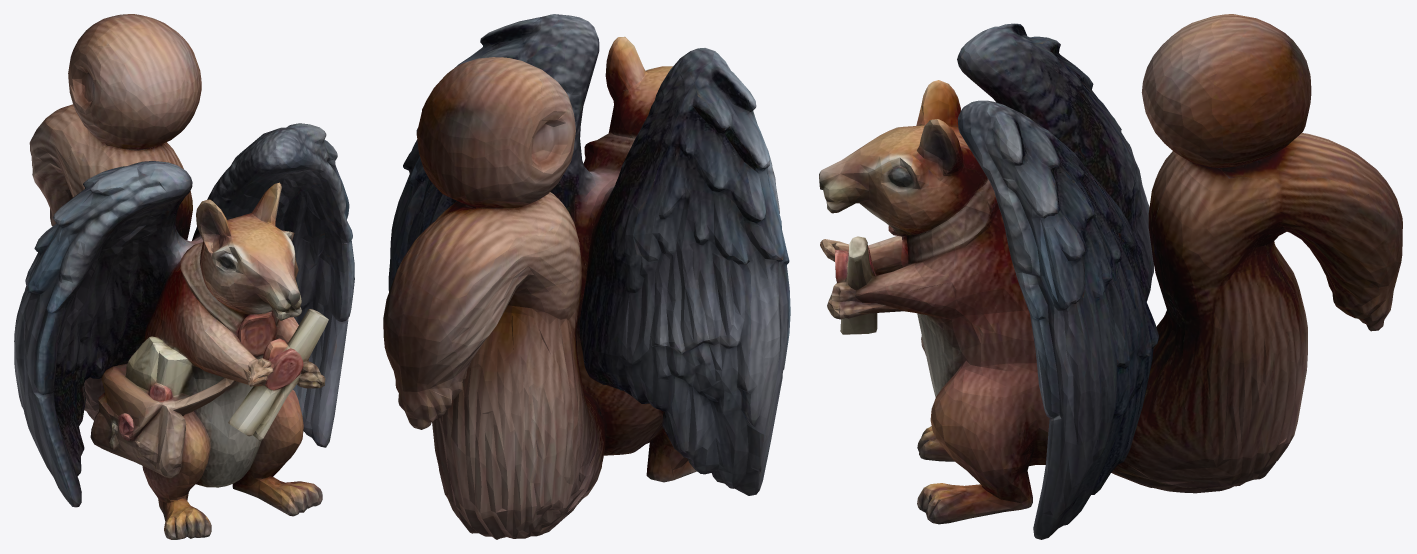
Rendered from quillshade__ravenCourier.glb.
The picture shows the model from 3 angles, left to right: view 1: azimuth 30°, elevation 25°; view 2: azimuth 150°, elevation 25°; view 3: azimuth 270°, elevation 25°; orthographic projection. The views are drawn at different scales.
Parts seen in each view (by area): view 1: world; view 2: world; view 3: world.
Part boxes in pixels (x1,y1,x2,y2): world: (14,14,354,539); world: (383,14,790,539); world: (819,14,1402,539).
Size of the model in its own units: 0.7541 by 0.8848 by 0.9991.
Materials: 1 (1 with a texture image).
